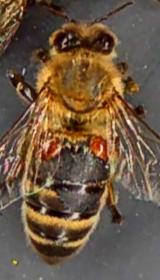varroa_mite: (83, 125, 111, 165), (36, 130, 67, 166)
